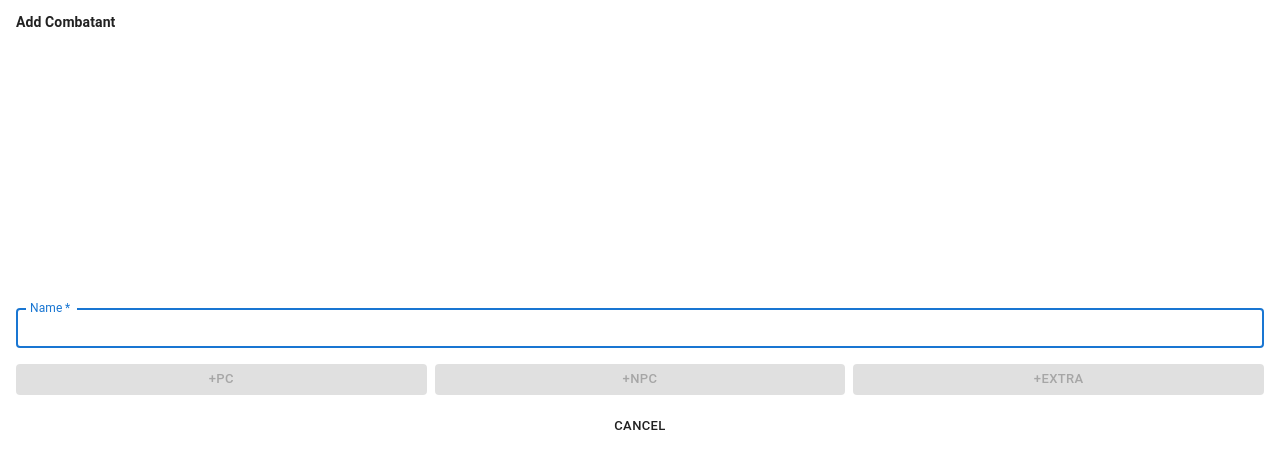
Test: AddParticipantModal › a failed save keeps the modal open with an error, and retry works
This screenshot has width=1280, height=464.
Later steps or results of the test are not shown.
Type "Orc" into the field labelled "Name *". click: (640, 328)
box: [16,308,1264,348]
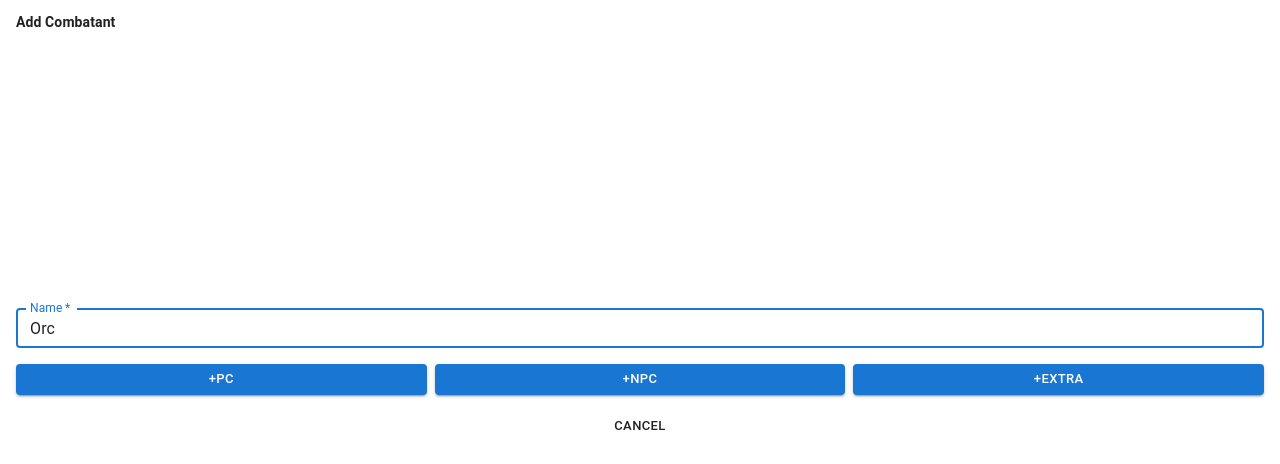
Click the button "+NPC". click: (640, 380)
box: [435,364,845,395]
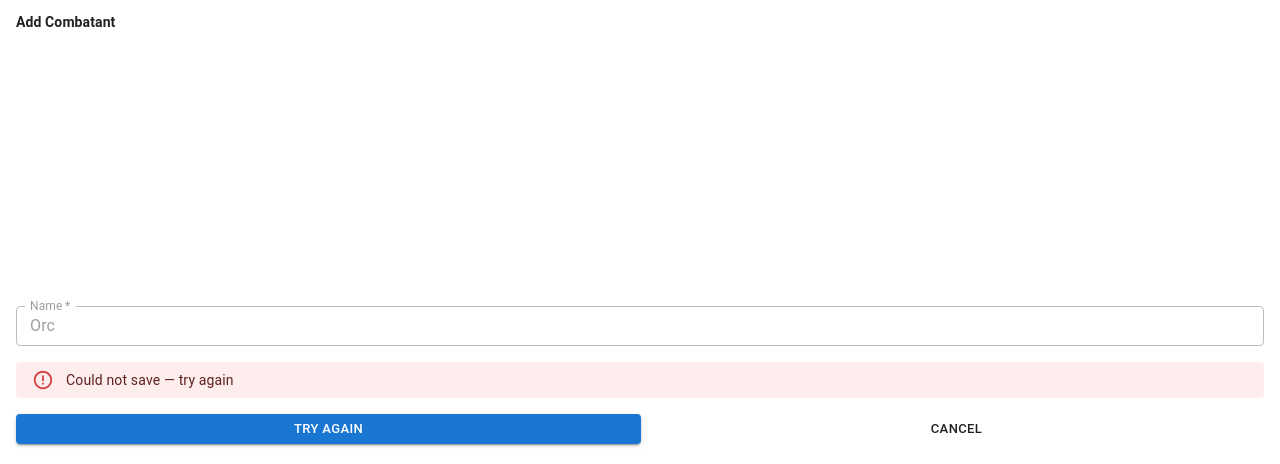
Check: the message reads "Could not save — try again", box [66,372,234,388]
